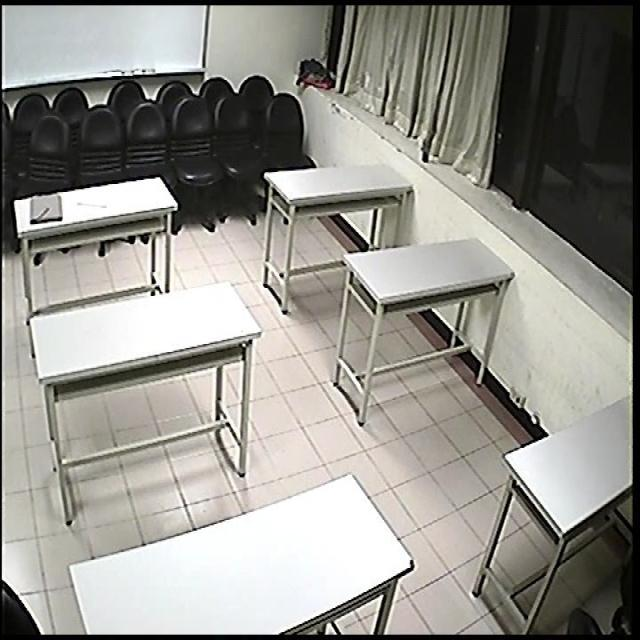abandoned-object: (299, 56, 339, 90)
